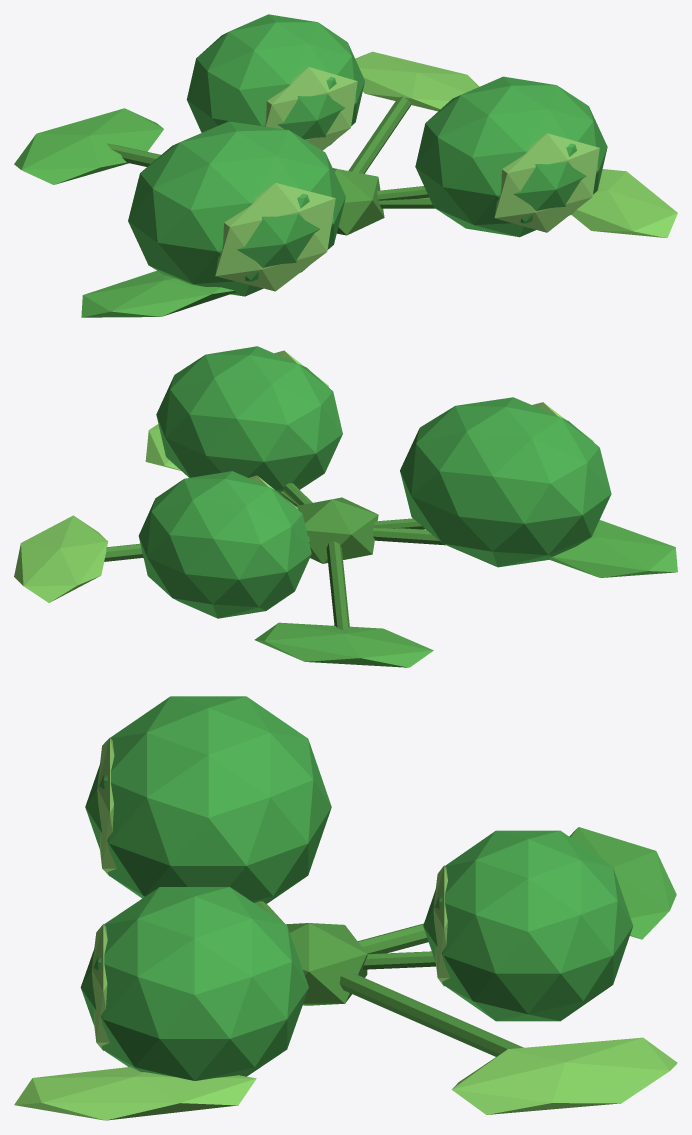
Rendered from Watermelon.glb.
The picture shows the model from 3 angles, top to bottom: view 1: azimuth 30°, elevation 25°; view 2: azimuth 150°, elevation 25°; view 3: azimuth 270°, elevation 25°; orthographic projection. The views are drawn at different scales.
Visible parts, largest first — view 1: FTF_Plant_Watermelon_Mesh; view 2: FTF_Plant_Watermelon_Mesh; view 3: FTF_Plant_Watermelon_Mesh.
Part boxes in pixels (x1=…): FTF_Plant_Watermelon_Mesh: x1=14, y1=14, x2=677, y2=317; FTF_Plant_Watermelon_Mesh: x1=14, y1=346, x2=677, y2=667; FTF_Plant_Watermelon_Mesh: x1=14, y1=696, x2=677, y2=1120.
Bounding box in the file's own units: 1.79 × 0.51 × 1.45.
